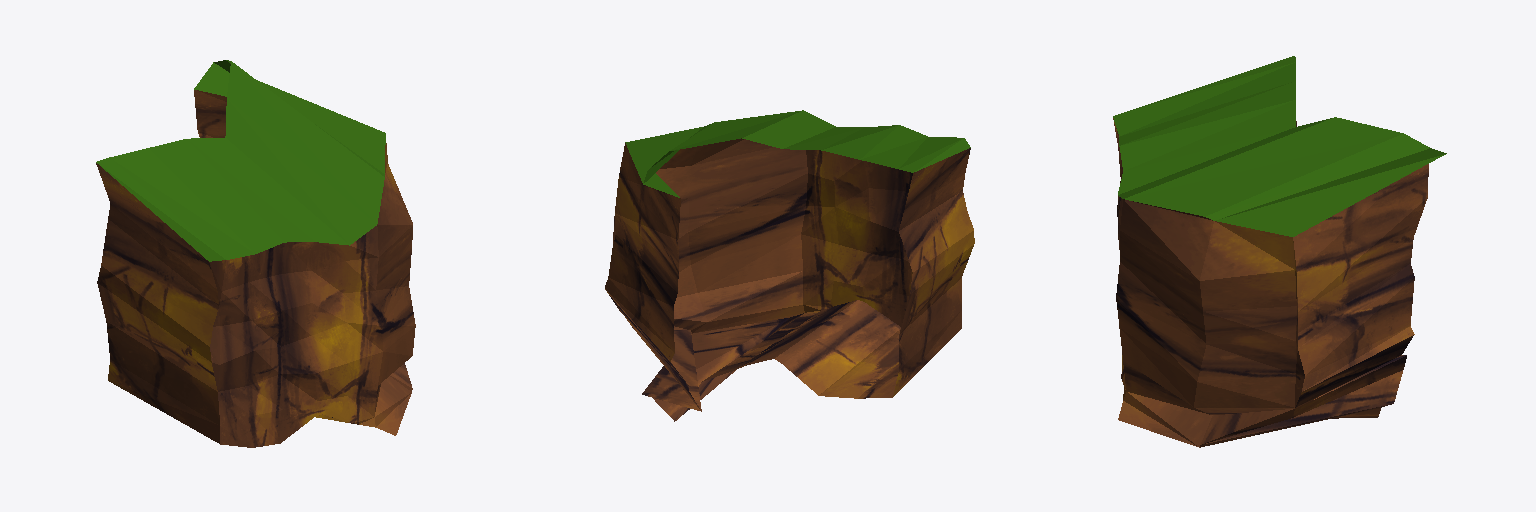
The picture shows the model from 3 angles: view 1: azimuth 30°, elevation 25°; view 2: azimuth 150°, elevation 25°; view 3: azimuth 270°, elevation 25°; orthographic projection.
Parts seen in each view (by area): view 1: Plane.051_Plane.056; view 2: Plane.051_Plane.056; view 3: Plane.051_Plane.056.
Part boxes in pixels (bbox=[...]): Plane.051_Plane.056: bbox=[96, 60, 415, 447]; Plane.051_Plane.056: bbox=[605, 110, 974, 421]; Plane.051_Plane.056: bbox=[1113, 56, 1446, 447].
Size of the model in its own units: 105 by 92.5 by 99.61.
1 materials, 1 textured.